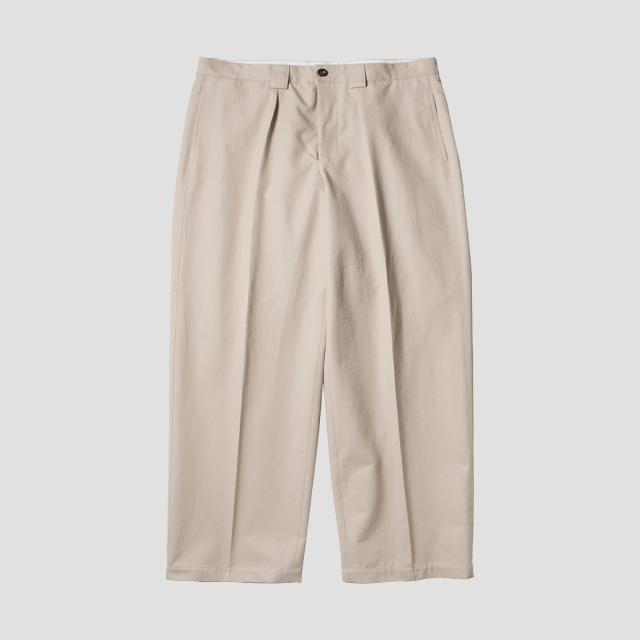long-pants: (162, 53, 476, 583)
